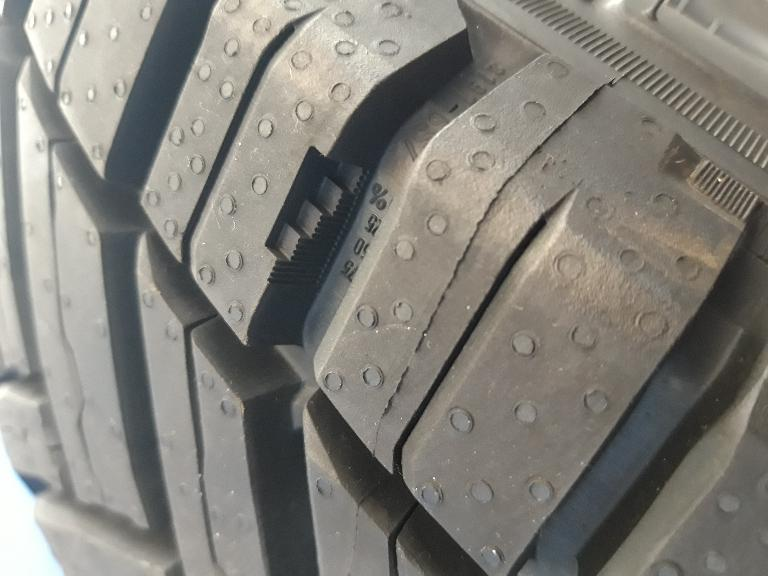temoin:100: (262, 144, 376, 288)
